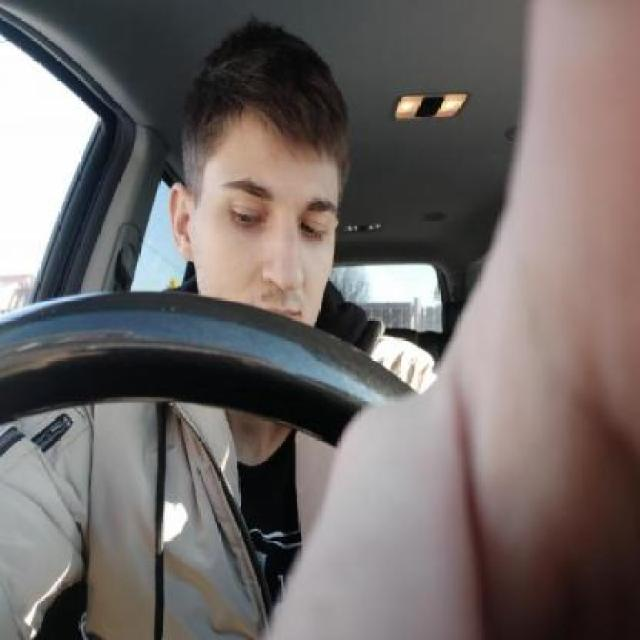awake: (230, 206, 267, 228), (300, 221, 326, 241)
